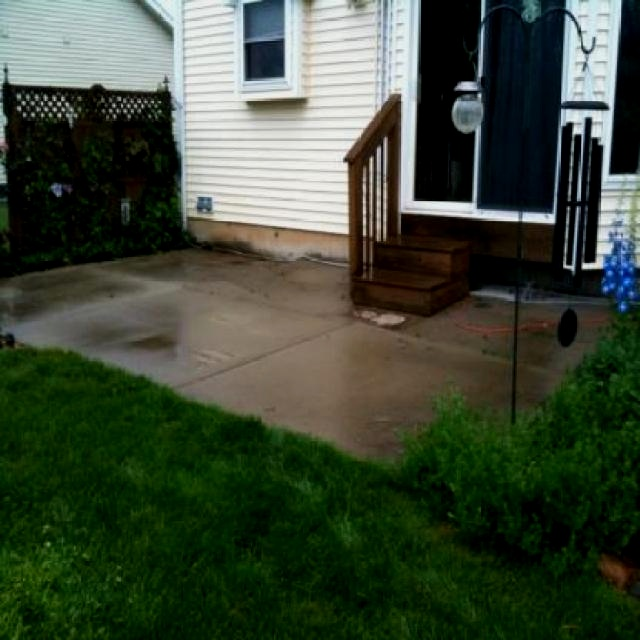stair: (352, 235, 471, 315)
